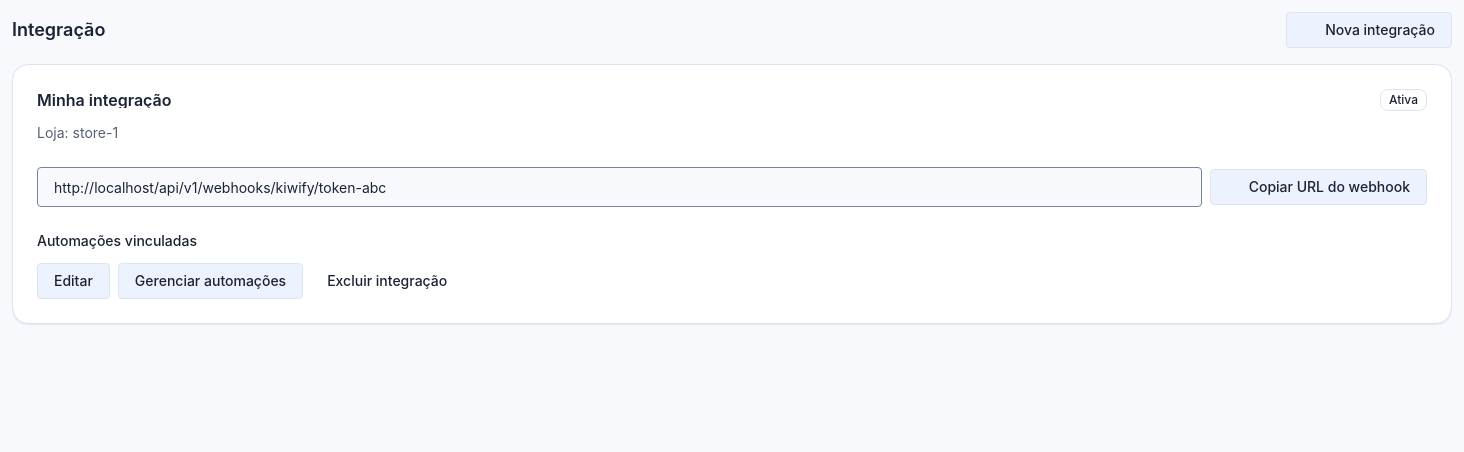
Test case: KiwifyIntegrationBlock › regra genérica nova permanece visível com motivo e instrução de compatibilidade
Step 1. Click the button "Gerenciar automações" → (210,281), box [118,263,303,299]
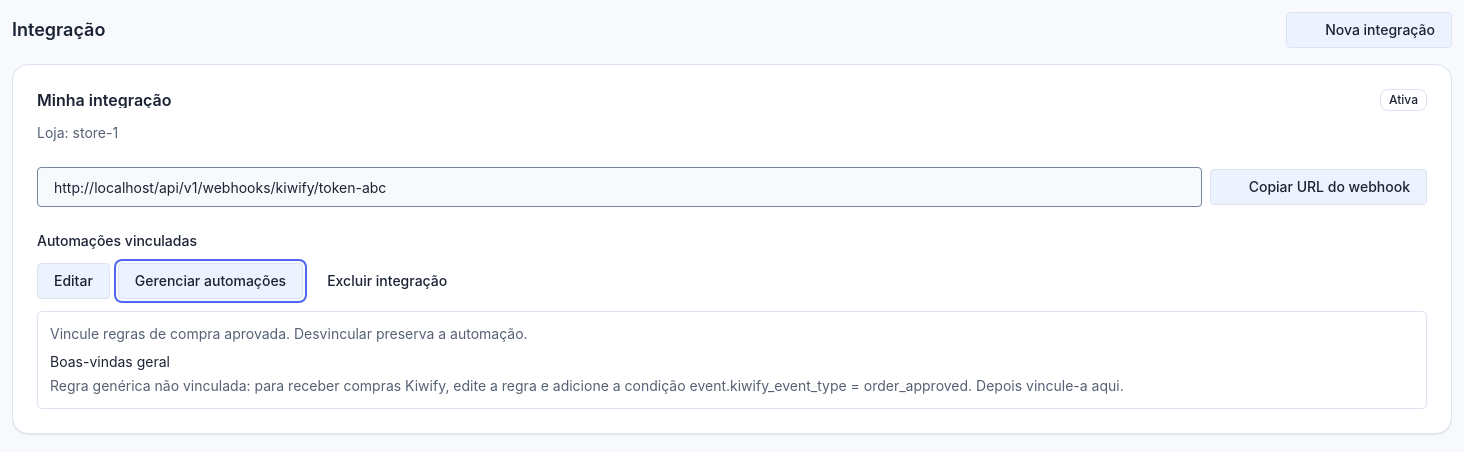
Expected: the text "Boas-vindas geral" is shown, [50,353,170,370]
Expected: the text "Regra genérica não vinculada" shows "event.kiwify_event_type = order_approved", [50,377,1124,394]
